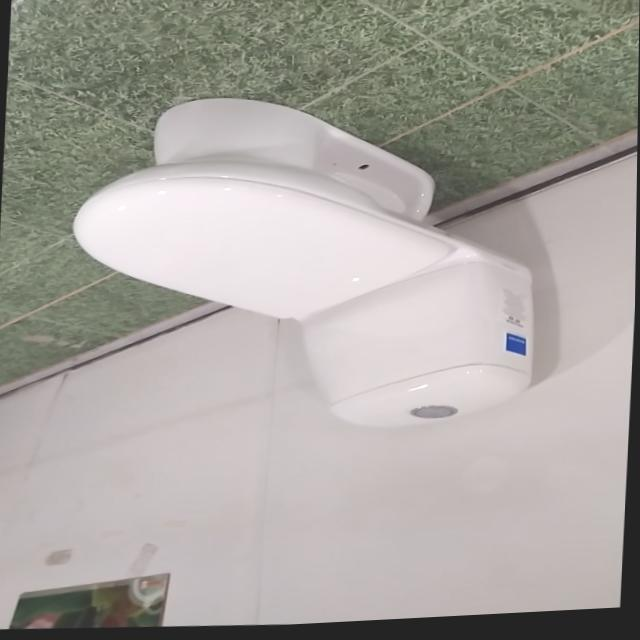toilet: (62, 81, 548, 451)
